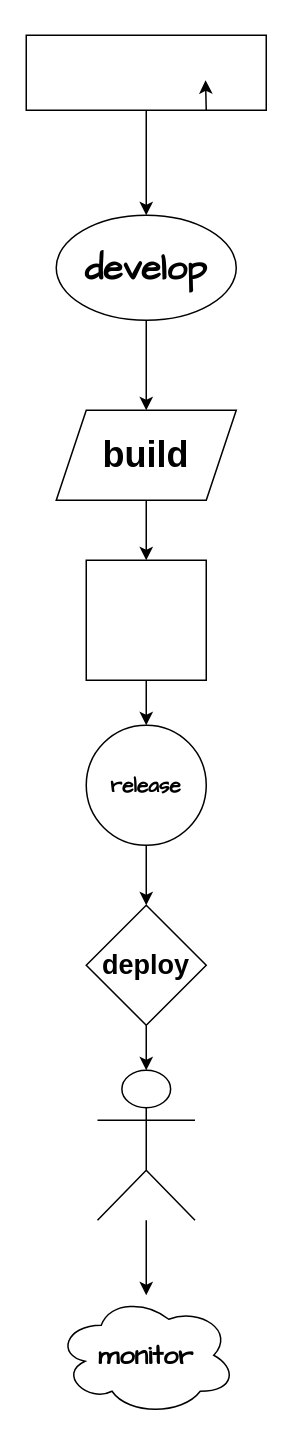
The diagram is 293 pixels wide and 1442 high, and some of its shapes have lost their labels. Here are the shapes that lost their labels. From the top down, the box of each, then its label:
(25, 34, 266, 110): plan
(85, 559, 206, 680): test
(96, 1069, 195, 1220): Actor
